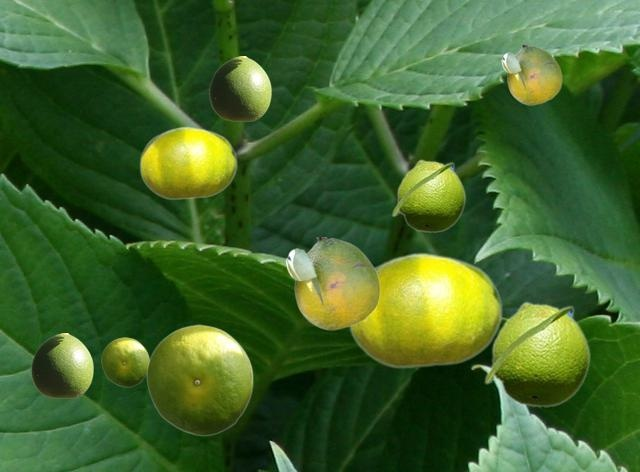dalandan: (347, 252, 501, 368), (146, 324, 252, 435), (483, 301, 590, 407), (285, 237, 379, 329), (139, 126, 236, 199), (391, 159, 465, 232), (209, 56, 270, 120), (31, 333, 92, 397), (501, 45, 561, 104), (101, 337, 148, 386)
